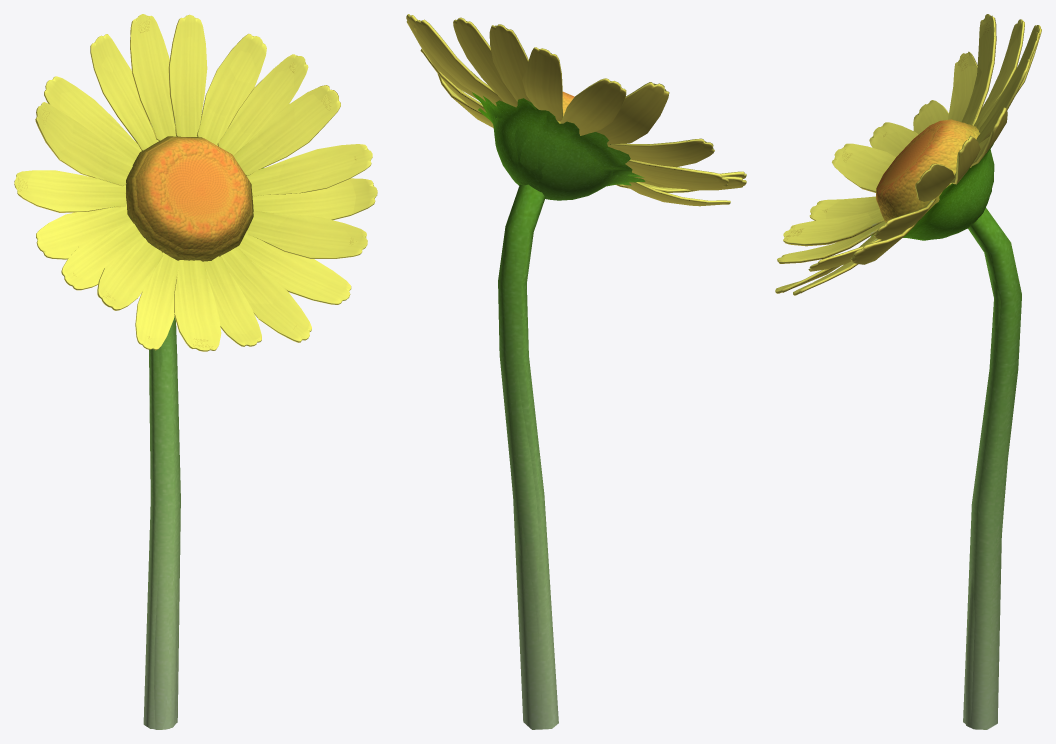
The model's file is POI_Flower_l_Lod0.fbx.
3 views of the same model, side by side, from view 1: azimuth 30°, elevation 25°; view 2: azimuth 150°, elevation 25°; view 3: azimuth 270°, elevation 25° (orthographic). The views are drawn at different scales.
Parts seen in each view (by area): view 1: mesh_Flower_l_petals, mesh_Flower_l_Lod1_3, mesh_Flower_l_Lod1_4, mesh_Flower_l_Lod1_1, mesh_Flower_l_stem, mesh_Flower_l_center; view 2: mesh_Flower_l_petals, mesh_Flower_l_Lod1_1, mesh_Flower_l_calyx, mesh_Flower_l_stem, mesh_Flower_l_Lod1_2; view 3: mesh_Flower_l_petals, mesh_Flower_l_Lod1_1, mesh_Flower_l_Lod1_3, mesh_Flower_l_Lod1_4, mesh_Flower_l_stem, mesh_Flower_l_calyx, mesh_Flower_l_Lod1_2, mesh_Flower_l_center.
Boxes of the visible parts, <box> form: mesh_Flower_l_petals: <box>14,14,377,351</box>; mesh_Flower_l_Lod1_3: <box>14,15,375,349</box>; mesh_Flower_l_Lod1_4: <box>126,136,253,261</box>; mesh_Flower_l_Lod1_1: <box>143,316,180,728</box>; mesh_Flower_l_stem: <box>150,323,177,729</box>; mesh_Flower_l_center: <box>132,137,252,255</box>; mesh_Flower_l_petals: <box>406,14,746,206</box>; mesh_Flower_l_Lod1_1: <box>498,184,558,729</box>; mesh_Flower_l_calyx: <box>472,92,645,200</box>; mesh_Flower_l_stem: <box>500,189,544,729</box>; mesh_Flower_l_Lod1_2: <box>474,94,643,198</box>; mesh_Flower_l_petals: <box>775,14,1041,295</box>; mesh_Flower_l_Lod1_1: <box>963,208,1021,729</box>; mesh_Flower_l_Lod1_3: <box>779,15,1036,284</box>; mesh_Flower_l_Lod1_4: <box>876,119,980,222</box>; mesh_Flower_l_stem: <box>965,219,1018,727</box>; mesh_Flower_l_calyx: <box>903,143,994,240</box>; mesh_Flower_l_Lod1_2: <box>871,150,992,240</box>; mesh_Flower_l_center: <box>880,122,969,221</box>.
Size of the model in its own units: 9.94 by 20.56 by 7.15.
2 materials, 2 textured.
